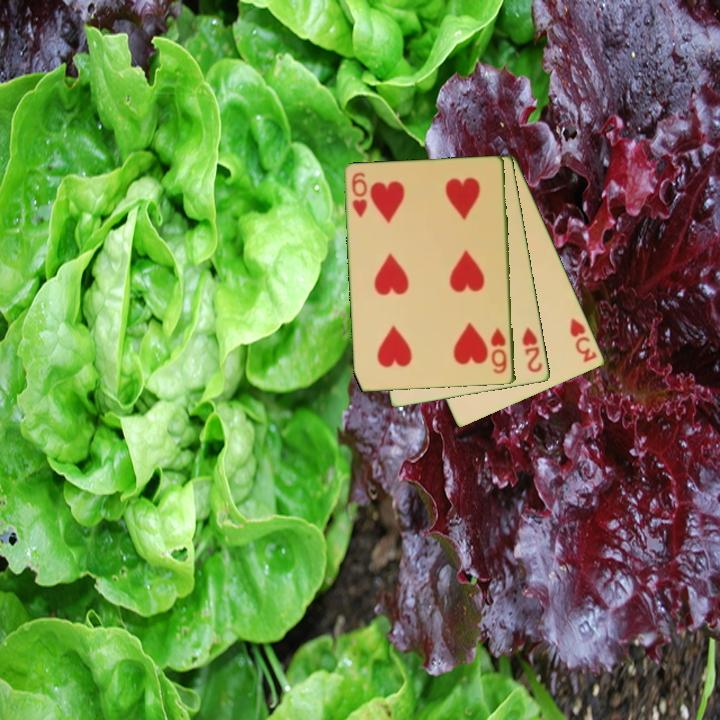2h: (519, 324, 545, 376)
3h: (567, 314, 600, 365)
6h: (487, 324, 510, 377), (349, 169, 370, 221)
